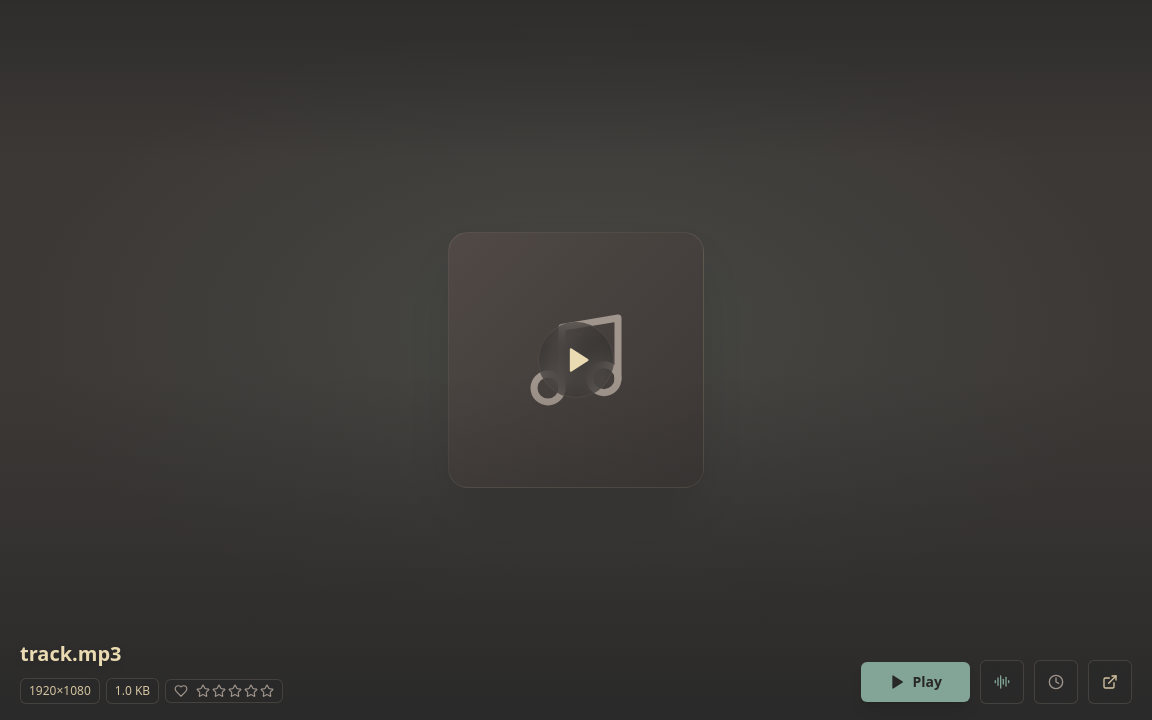
Scenario: DiscoverCard audio › carries the spectrum toggle, which hides and shows the display
What coordinates should you click on to do the following:
click the button named "Hide spectrum"
I would click on:
 (1002, 682)
Its box is [980,660,1024,704].
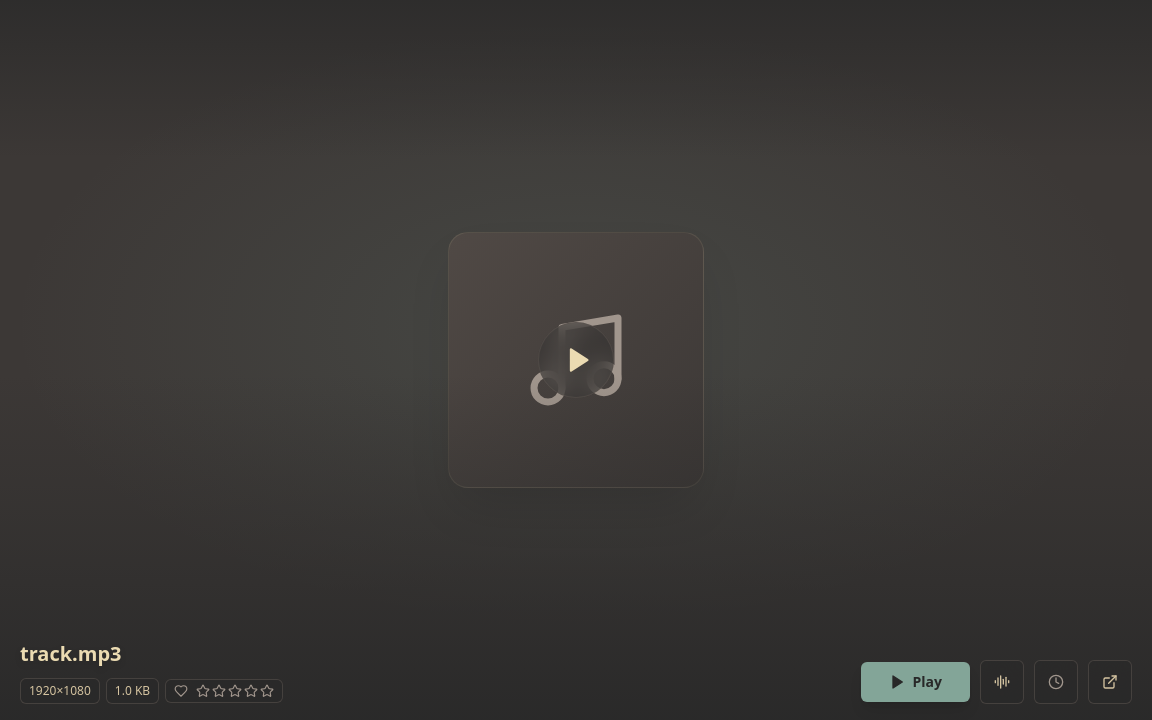
Expected: the drawing with test id "audio-spectrum" is gone
